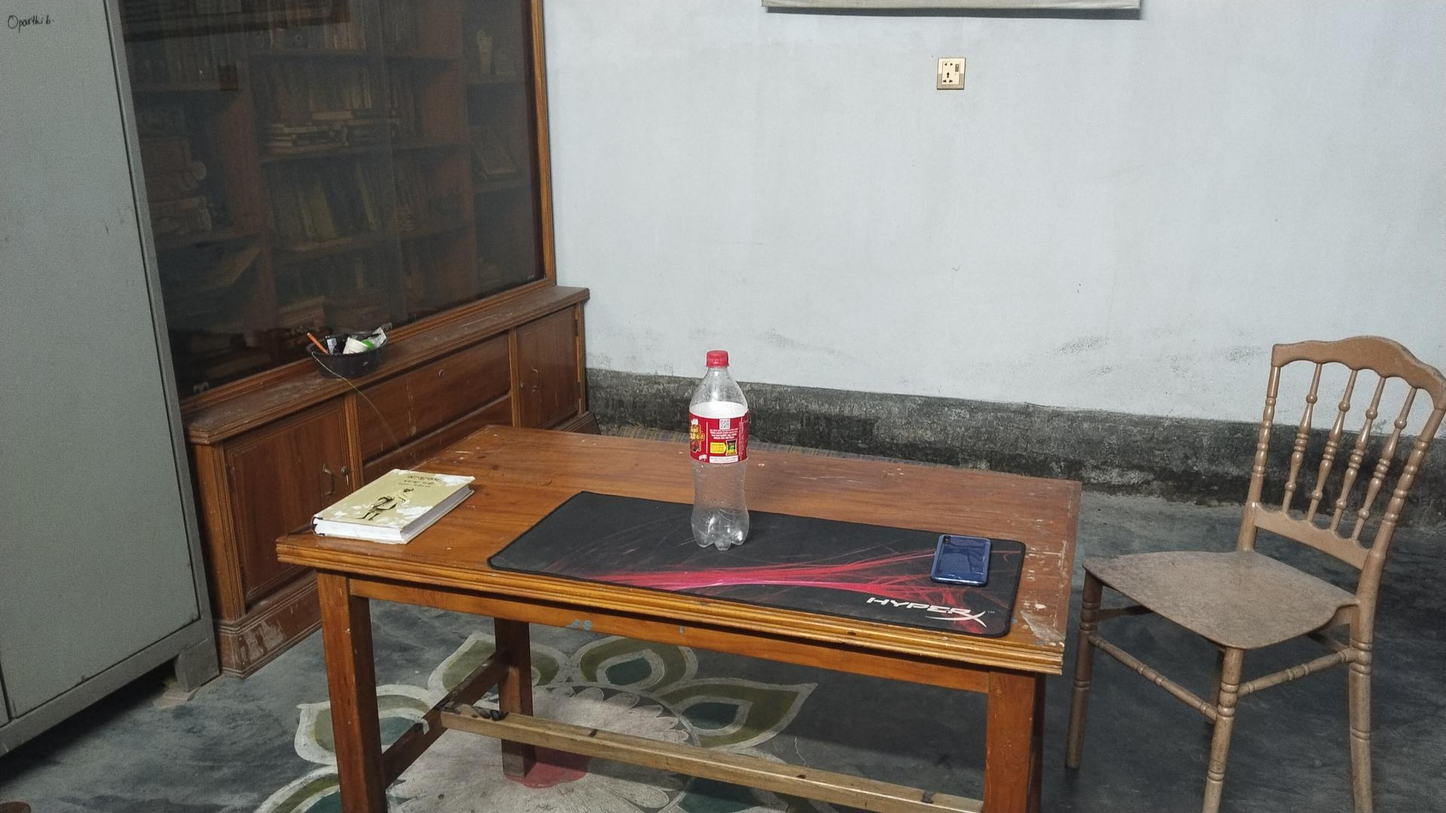Book: (312, 464, 473, 544)
Bottle: (684, 347, 751, 550)
Chair: (1086, 331, 1446, 813)
Phone: (930, 526, 991, 591)
Table: (273, 419, 1081, 813)
